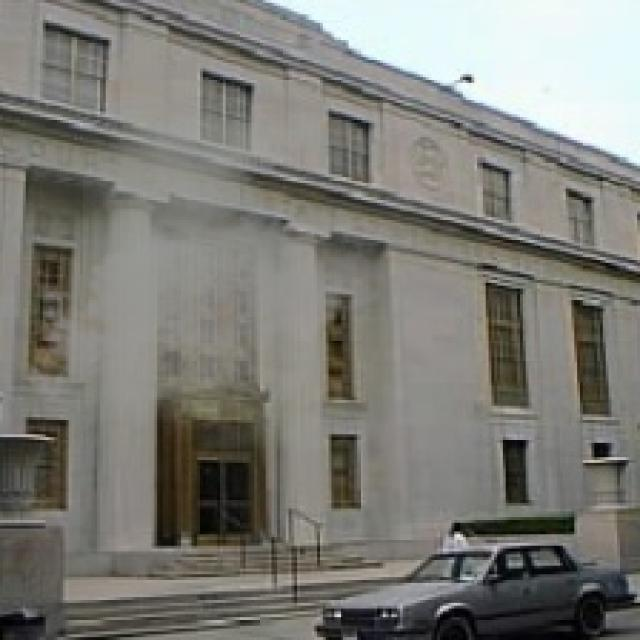smoke: (14, 94, 400, 452)
